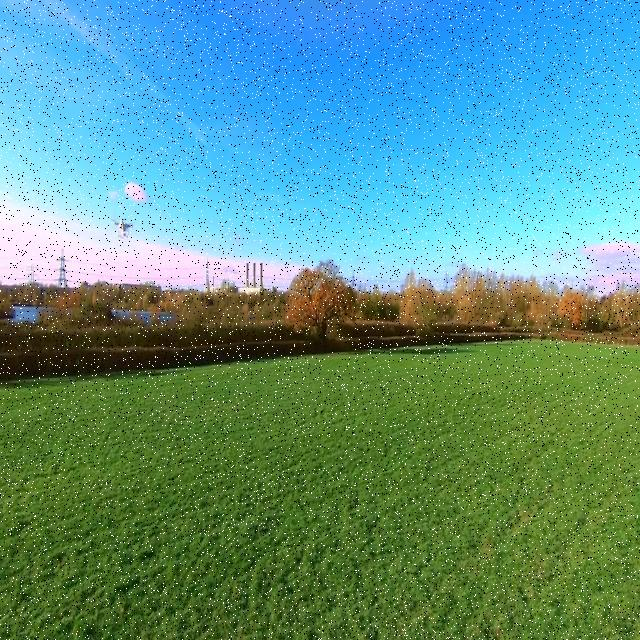UAV: (112, 216, 134, 238)
